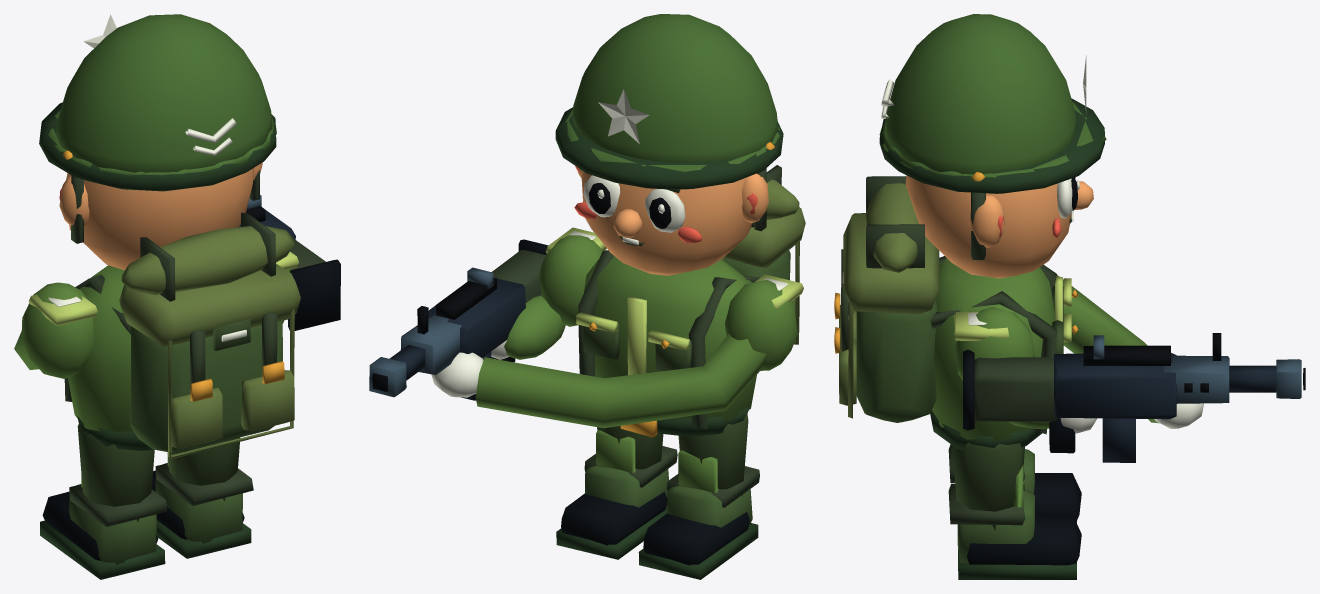
File: soldier-lod.glb
3 renders of one model, left to right at view 1: azimuth 30°, elevation 25°; view 2: azimuth 150°, elevation 25°; view 3: azimuth 270°, elevation 25°, orthographic. The views are drawn at different scales.
Visible parts, largest first — view 1: Body, Head, LegL, LegR, Arms; view 2: Head, Arms, Body, LegL, LegR; view 3: Head, Body, Arms, LegR, LegL.
Part boxes in pixels (x1,y1,x2,y2): Body: (29, 212, 300, 459); Head: (39, 14, 276, 270); LegL: (40, 424, 167, 579); LegR: (151, 437, 253, 558); Arms: (14, 195, 340, 378); Head: (555, 14, 783, 275); Arms: (369, 235, 797, 428); Body: (545, 165, 805, 437); LegL: (638, 414, 759, 579); LegR: (556, 426, 677, 559); Head: (879, 14, 1106, 278); Body: (834, 176, 1078, 449); Arms: (954, 275, 1305, 462); LegR: (948, 442, 1081, 579); LegL: (948, 444, 1081, 523).
Size of the model in its own units: 0.8335 by 1.41 by 1.16.
Materials: 1 (1 with a texture image).
